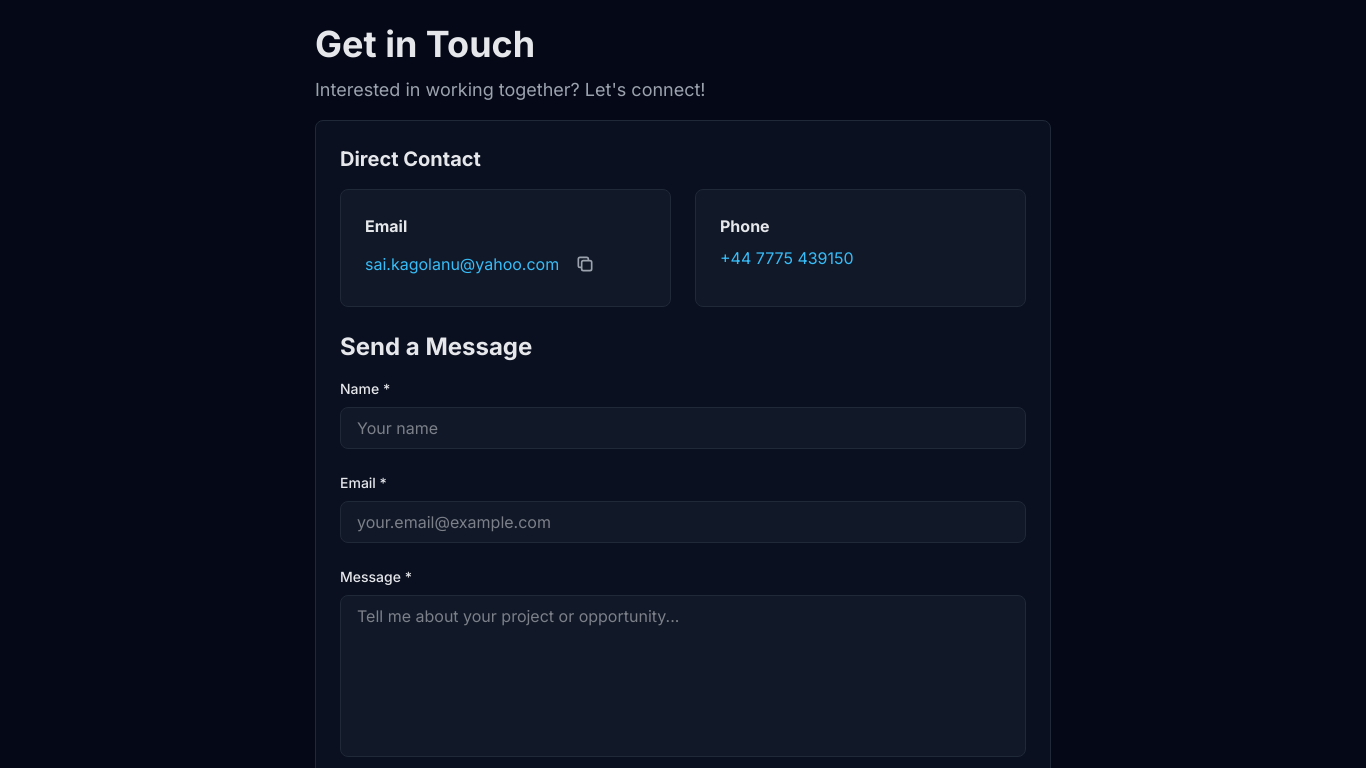
Contact Page › shows success message after form submission
Type "Test" into the field labelled "Name *" at point(683, 428), box [340,407,1026,449]
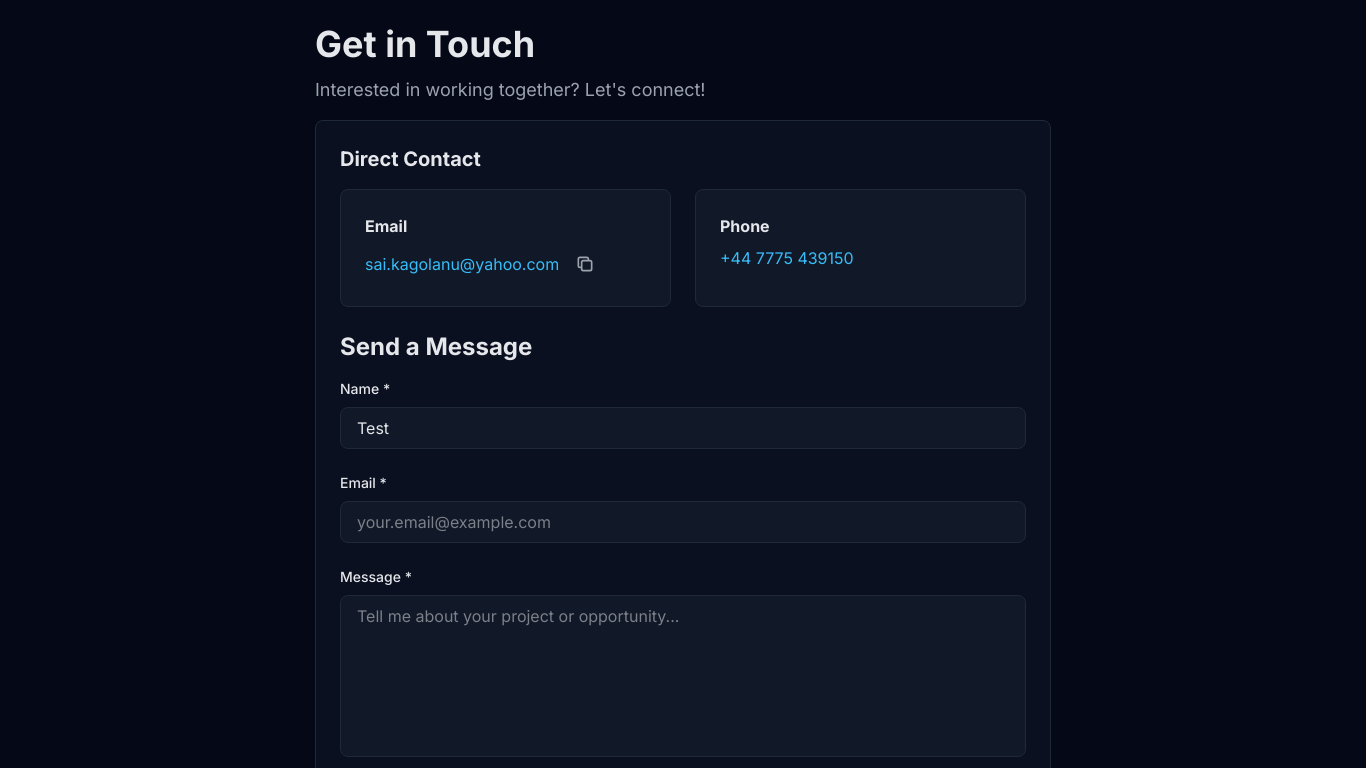
Type "test@test.com" into the field labelled "Email *" at point(683, 522), box [340,501,1026,543]
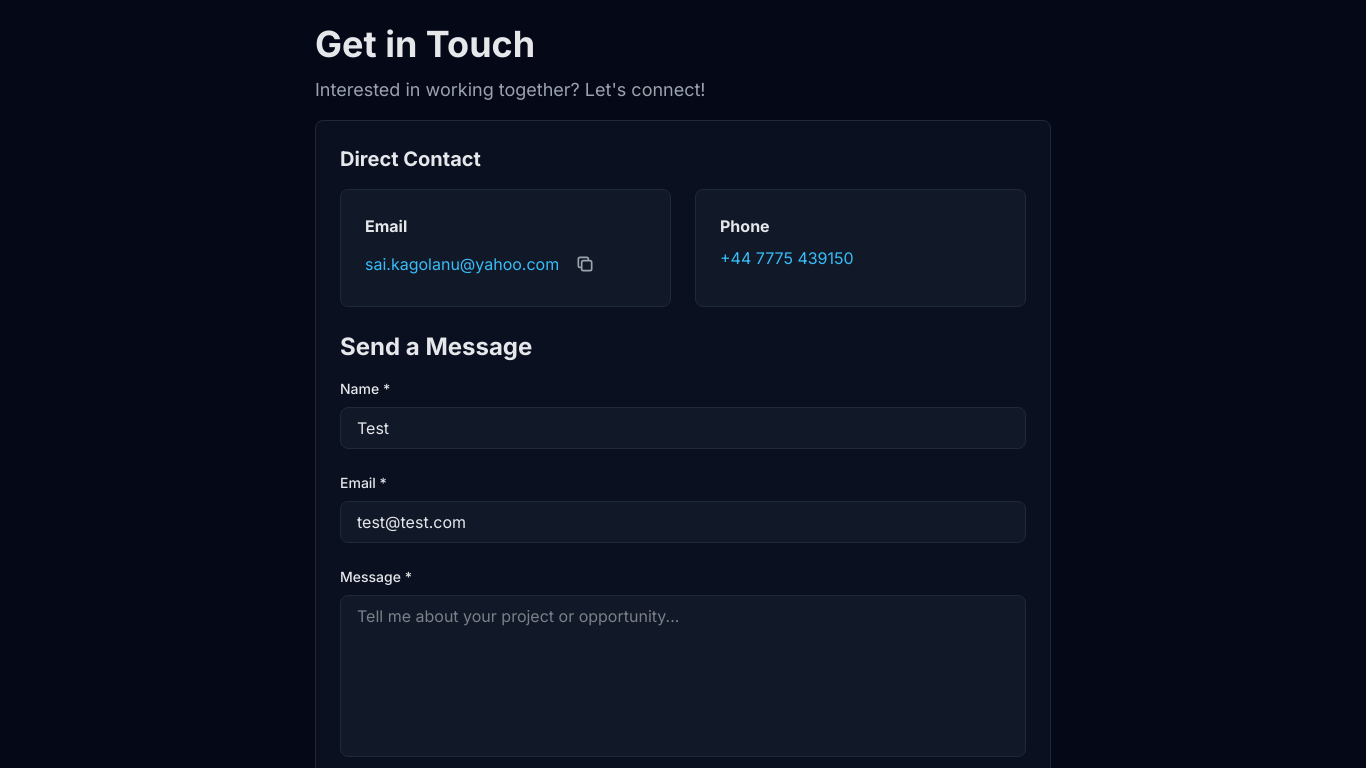
Type "Message" into the text box labelled "Message *" at point(683, 676), box [340,595,1026,757]
(page scrolled)
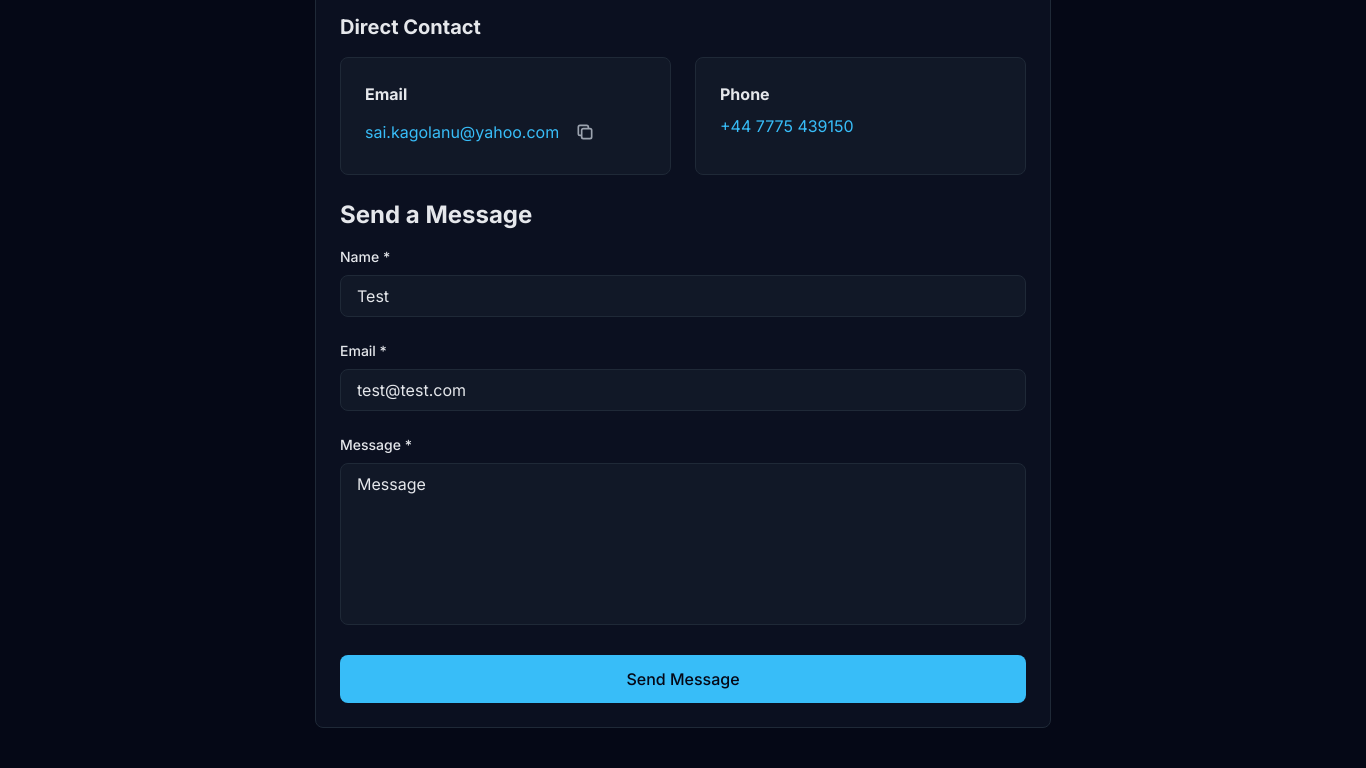
Submit the form "Name * Email * Message * Send Message", box [340,247,1026,703]
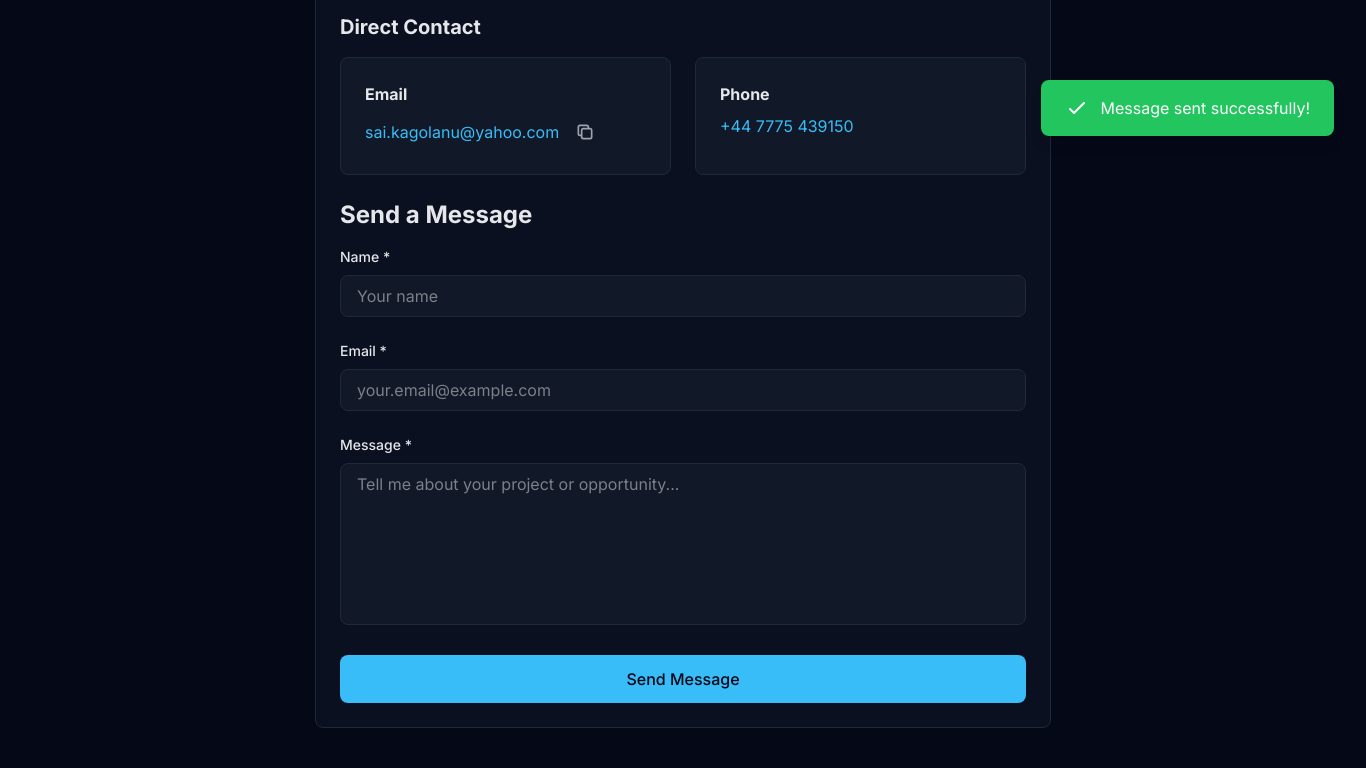
expect the text "Message sent successfully!" is shown: met, box [1100,96,1310,120]
